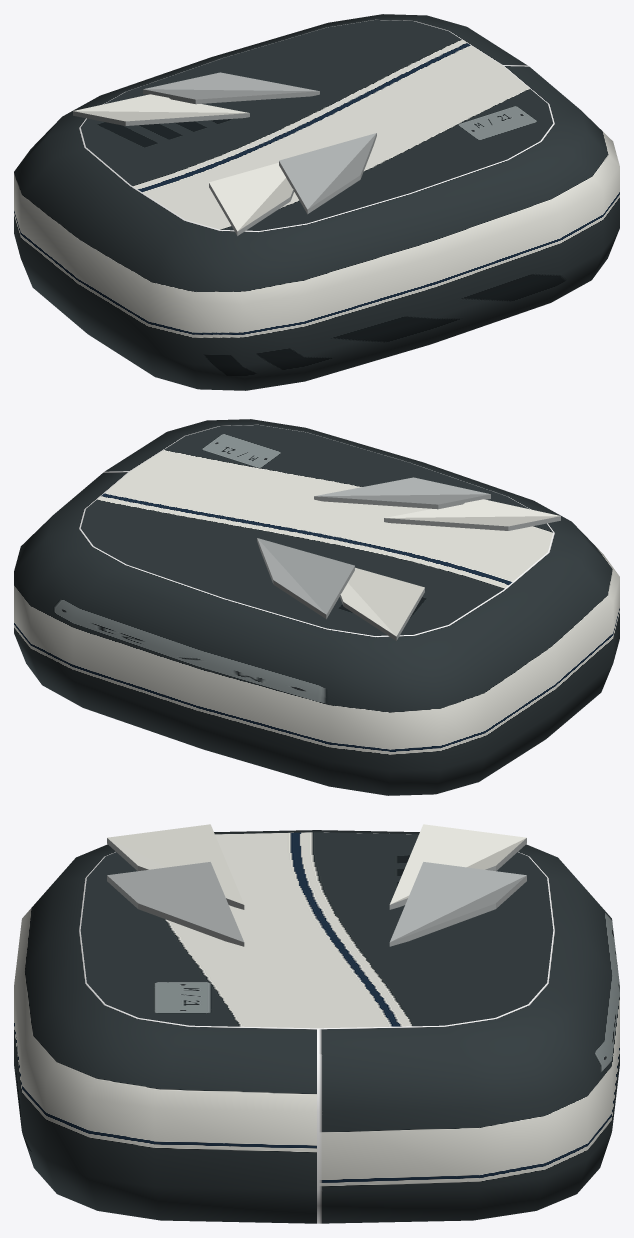
File: MotorCowl_21_SR_漆朱・白抜き.glb
3 renders of one model, top to bottom at view 1: azimuth 30°, elevation 25°; view 2: azimuth 150°, elevation 25°; view 3: azimuth 270°, elevation 25°, orthographic. The views are drawn at different scales.
Parts seen in each view (by area): view 1: MotorCowl_21_SR; view 2: MotorCowl_21_SR; view 3: MotorCowl_21_SR.
Part boxes in pixels (<box>): MotorCowl_21_SR: <box>14,14,619,390</box>; MotorCowl_21_SR: <box>14,419,619,795</box>; MotorCowl_21_SR: <box>14,824,619,1223</box>.
Bounding box in the file's own units: 0.332 × 0.1193 × 0.286.
2 materials, 2 textured.
